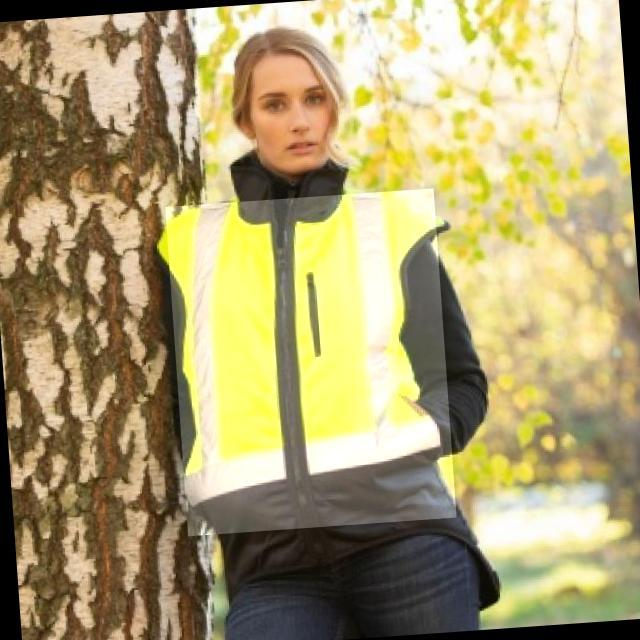Person: (112, 0, 513, 640)
Safety Vest: (166, 188, 458, 536)
no-helmet: (223, 13, 336, 114)
